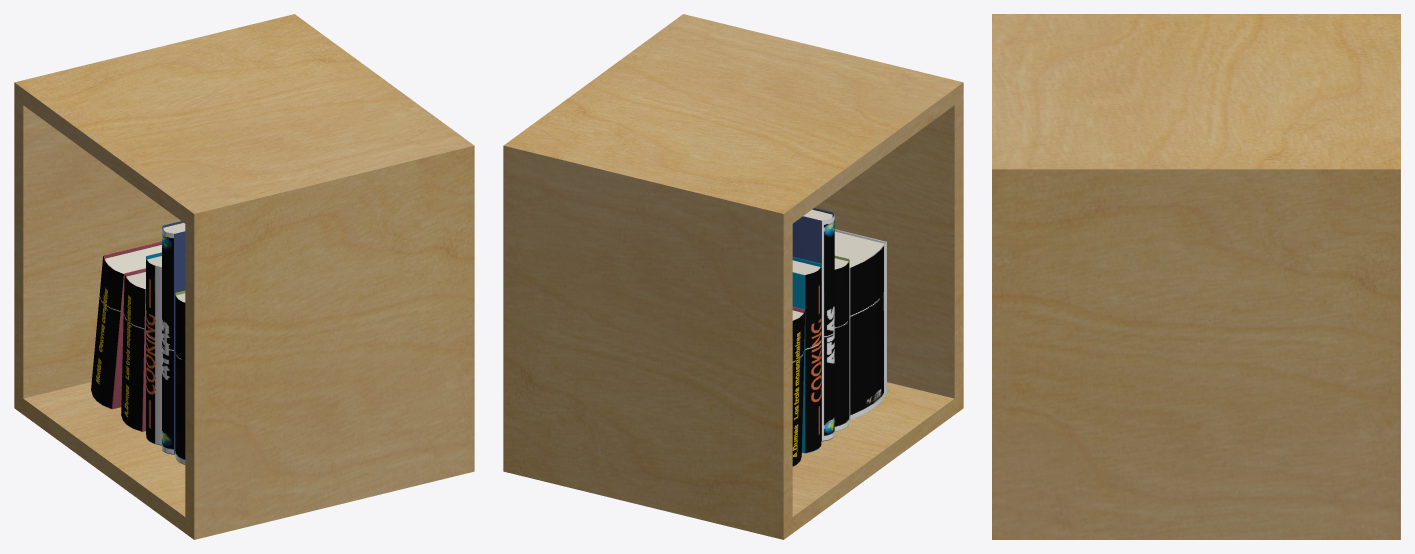
The model's file is estanteria_cubo_libros.glb.
The picture shows the model from 3 angles, left to right: view 1: azimuth 30°, elevation 25°; view 2: azimuth 150°, elevation 25°; view 3: azimuth 270°, elevation 25°; orthographic projection. The views are drawn at different scales.
Parts seen in each view (by area): view 1: estanteria_cubo_libros; view 2: estanteria_cubo_libros; view 3: estanteria_cubo_libros.
Boxes of the visible parts, left/top/right/bottom form: estanteria_cubo_libros: left=14, top=14, right=474, bottom=539; estanteria_cubo_libros: left=503, top=14, right=963, bottom=539; estanteria_cubo_libros: left=992, top=14, right=1400, bottom=539.
Bounding box in the file's own units: 45 × 50 × 50.
Materials: 9 (2 with a texture image).
